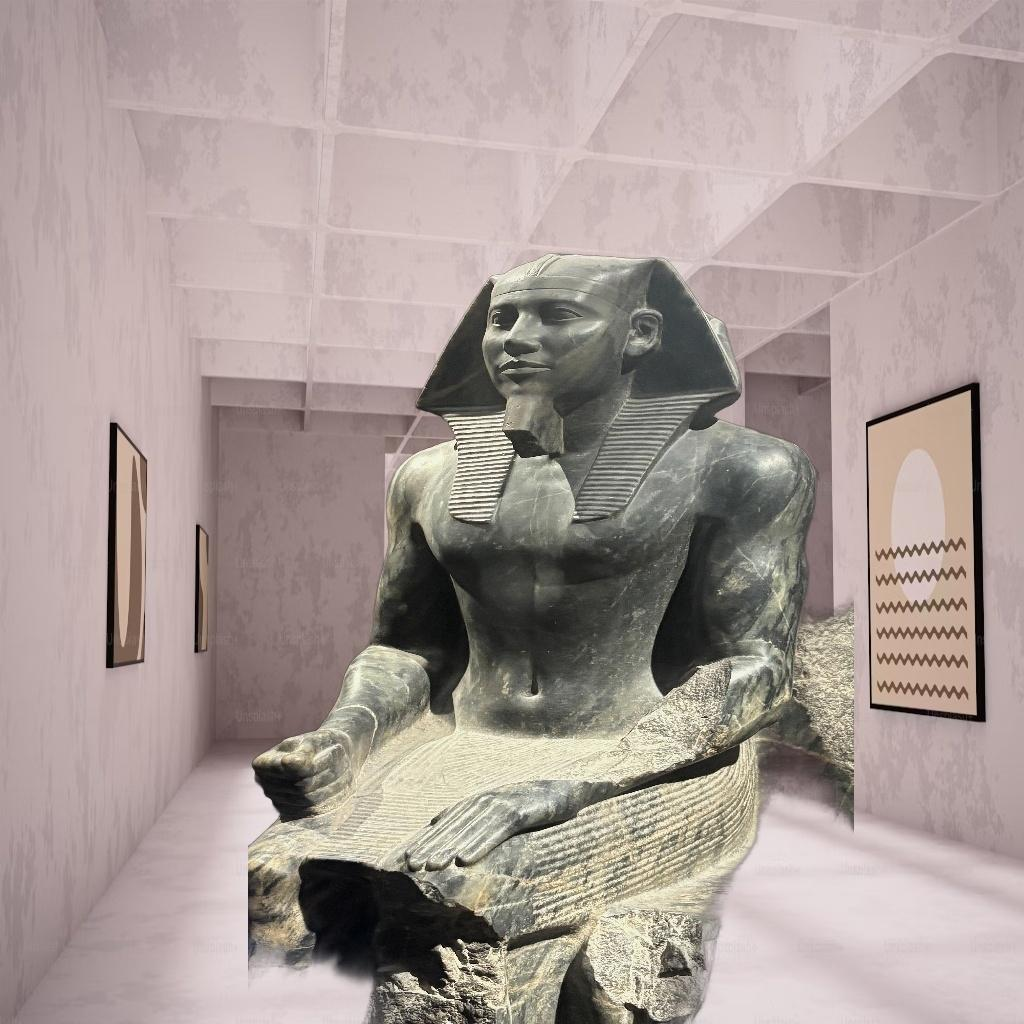Statue of Khafre: (248, 251, 854, 1024)
